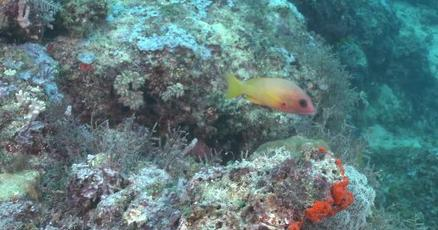Lutjanidae -Snappers-: (217, 63, 319, 121)
